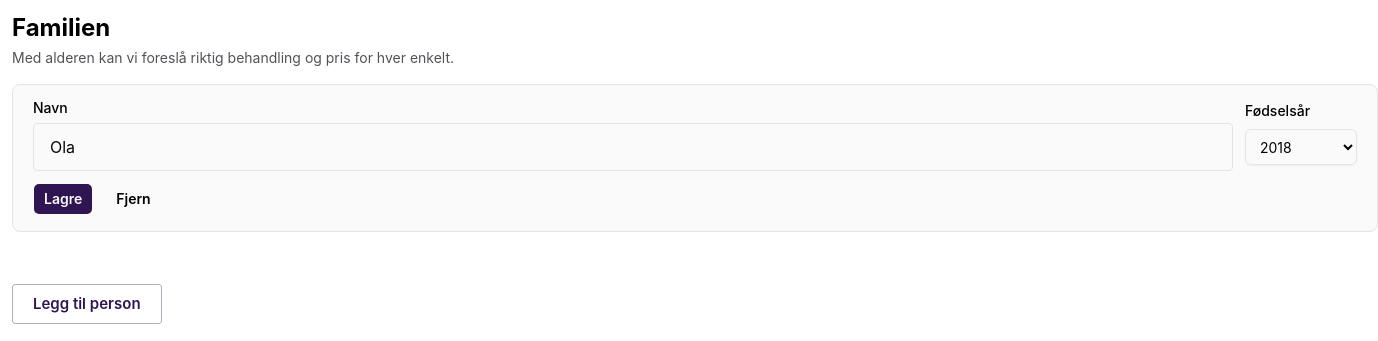
Test: FamilyEditor › removes one child by id
Click the button with aria-label "Fjern Ola". click: x=134, y=199
box: [105,183,162,215]
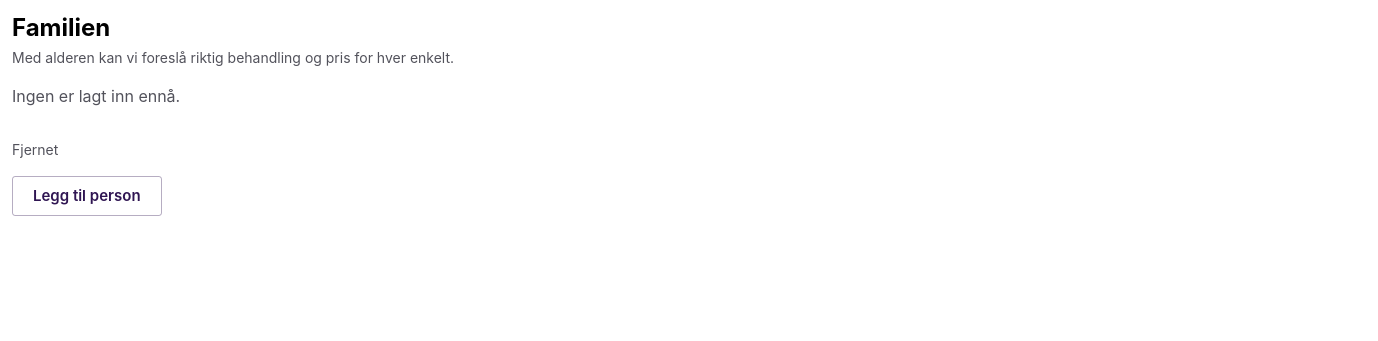
Check: the text "Fjernet" is shown, box [12,141,58,158]
Check: the label labelled "Navn" is gone
